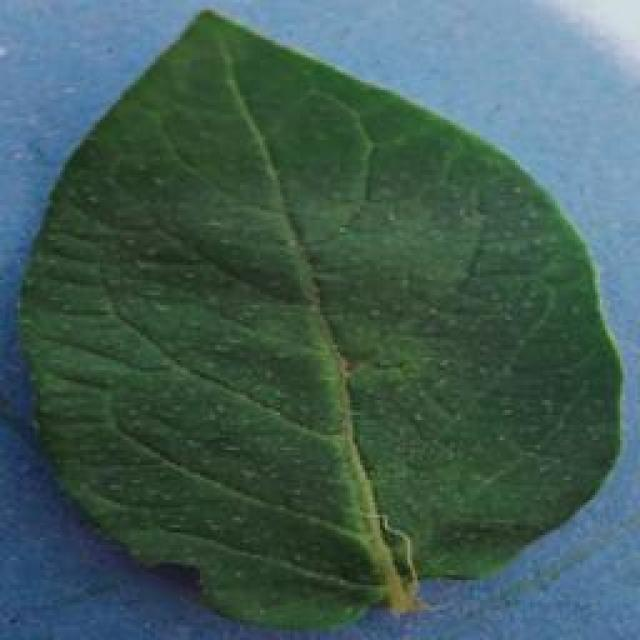Potato_Healthy: (23, 6, 618, 624)
